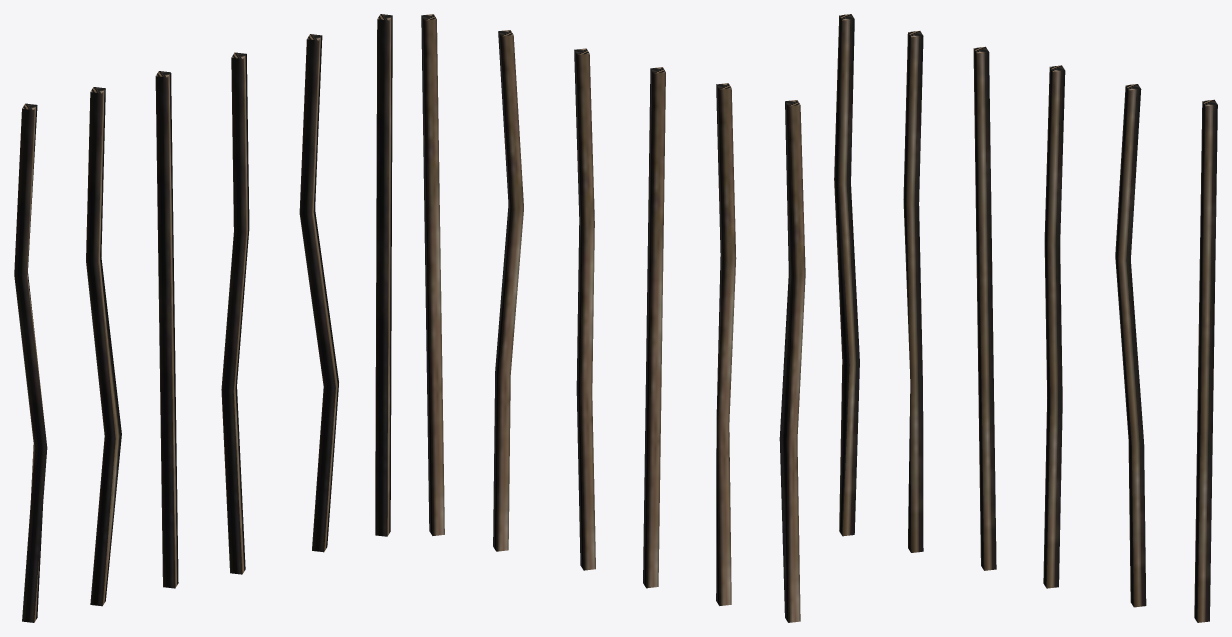
File: Metal_Bars.gltf
3 views of the same model, side by side, from view 1: azimuth 30°, elevation 25°; view 2: azimuth 150°, elevation 25°; view 3: azimuth 330°, elevation 25° (orthographic).
Visible parts, largest first — view 1: Metal_Bars(Clone); view 2: Metal_Bars(Clone); view 3: Metal_Bars(Clone).
Part boxes in pixels (left/top/right/bottom): Metal_Bars(Clone): left=14, top=14, right=392, bottom=622; Metal_Bars(Clone): left=421, top=14, right=805, bottom=622; Metal_Bars(Clone): left=834, top=14, right=1217, bottom=622.
Size of the model in its own units: 1.42 by 1.84 by 0.127.
Materials: 1 (1 with a texture image).
